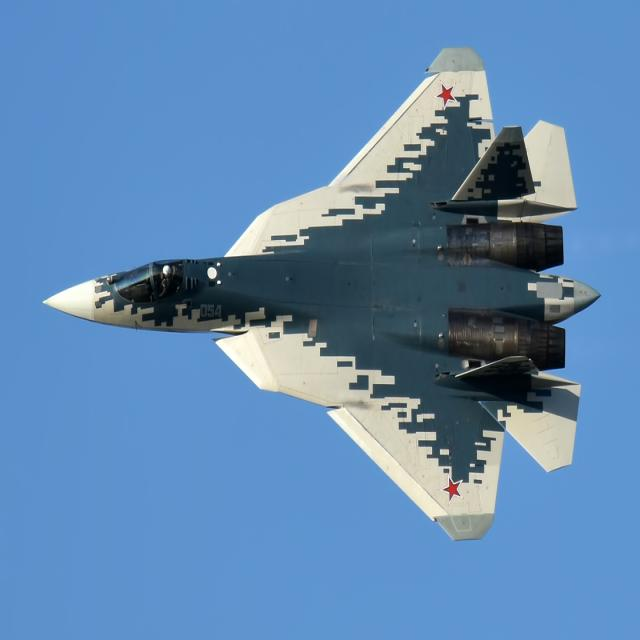MIL_Plane: (41, 46, 602, 542)
